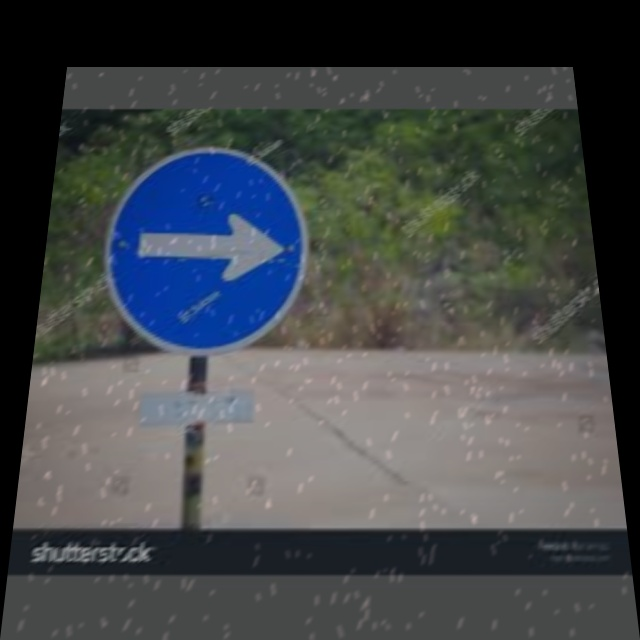Compulsory_Turn_Right: (103, 145, 309, 355)
